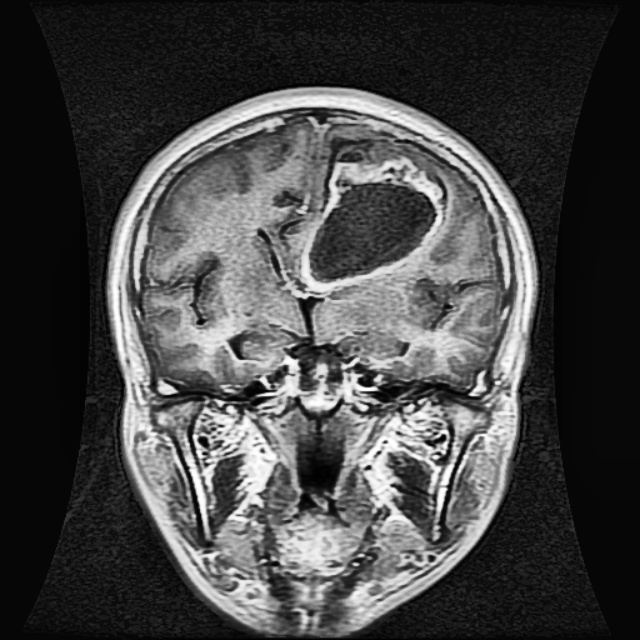Meningioma: (299, 143, 447, 297)
